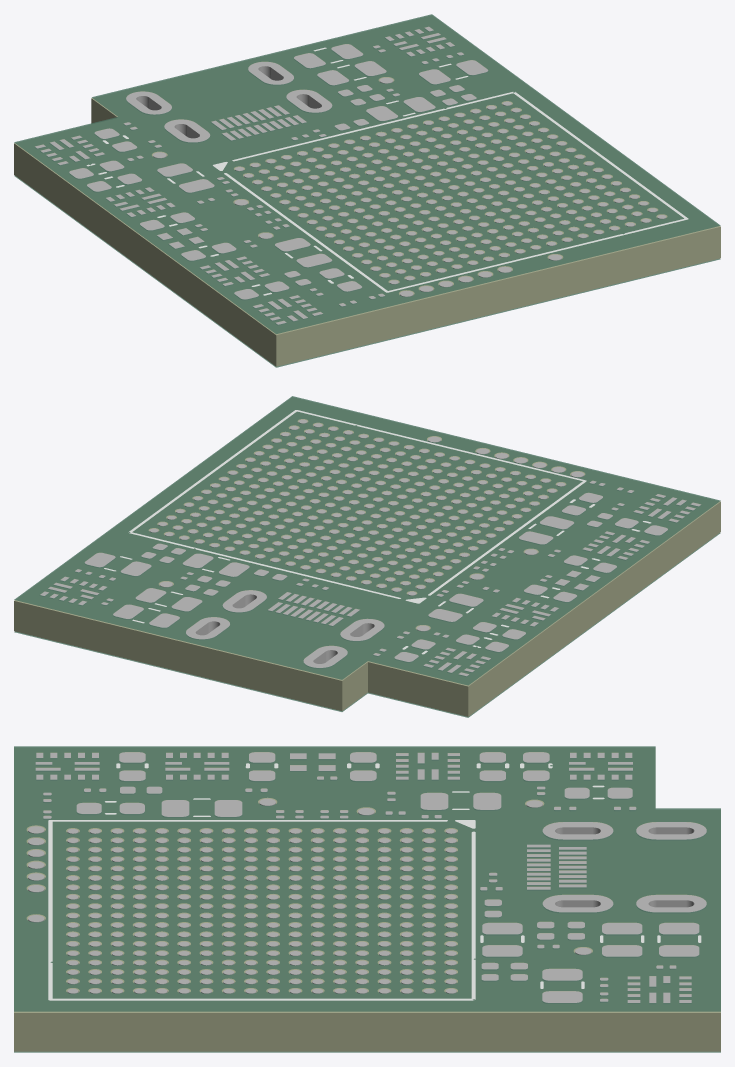
The model's file is Artix_Frontend_V37.glb.
3 views of the same model, one above another, from view 1: azimuth 30°, elevation 25°; view 2: azimuth 150°, elevation 25°; view 3: azimuth 270°, elevation 25° (orthographic). The views are drawn at different scales.
Parts seen in each view (by area): view 1: =>[0:1:1:11], =>[0:1:1:9], =>[0:1:1:6], =>[0:1:1:7], =>[0:1:1:10]; view 2: =>[0:1:1:11], =>[0:1:1:9], =>[0:1:1:6], =>[0:1:1:7], =>[0:1:1:10]; view 3: =>[0:1:1:11], =>[0:1:1:9], =>[0:1:1:6], =>[0:1:1:7], =>[0:1:1:10].
Part boxes in pixels (x1,y1,x2,y2): =>[0:1:1:11]: (14, 16, 720, 366); =>[0:1:1:9]: (14, 14, 720, 333); =>[0:1:1:6]: (35, 27, 666, 324); =>[0:1:1:7]: (86, 47, 688, 295); =>[0:1:1:10]: (14, 175, 720, 367); =>[0:1:1:11]: (14, 397, 720, 716); =>[0:1:1:9]: (14, 396, 720, 685); =>[0:1:1:6]: (40, 419, 700, 676); =>[0:1:1:7]: (104, 410, 651, 654); =>[0:1:1:10]: (14, 533, 720, 717); =>[0:1:1:11]: (14, 748, 720, 1051); =>[0:1:1:9]: (14, 746, 720, 1011); =>[0:1:1:6]: (28, 752, 706, 1003); =>[0:1:1:7]: (48, 763, 701, 1000); =>[0:1:1:10]: (14, 1051, 720, 1052).
Size of the model in its own units: 0.0226 by 0.00232 by 0.0254.
